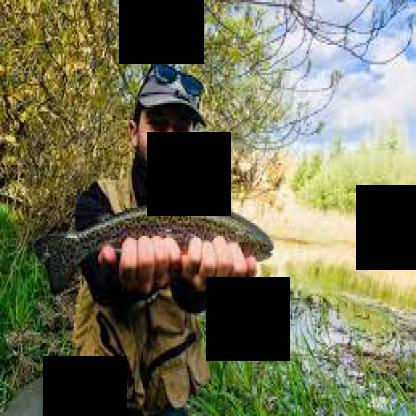fish: (35, 198, 274, 294)
